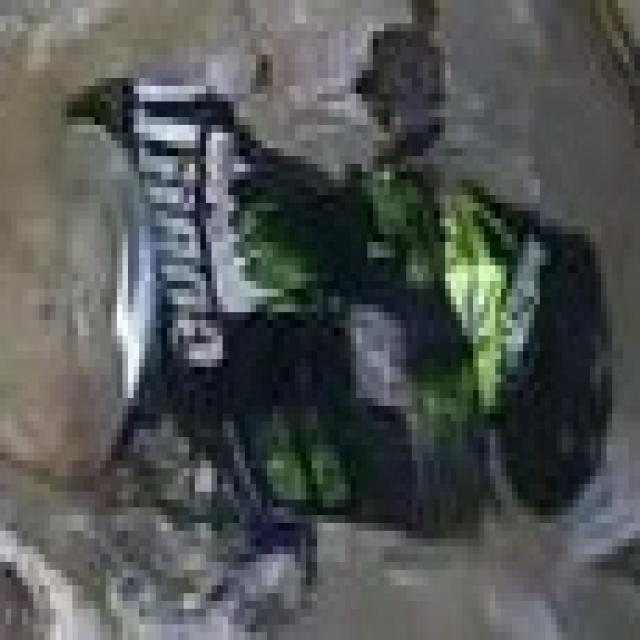litter: (61, 72, 629, 562)
